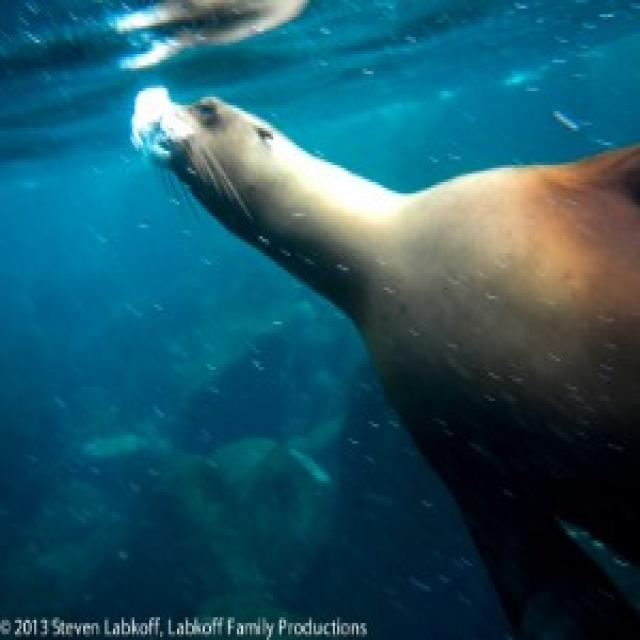Seal: (146, 100, 630, 540)
